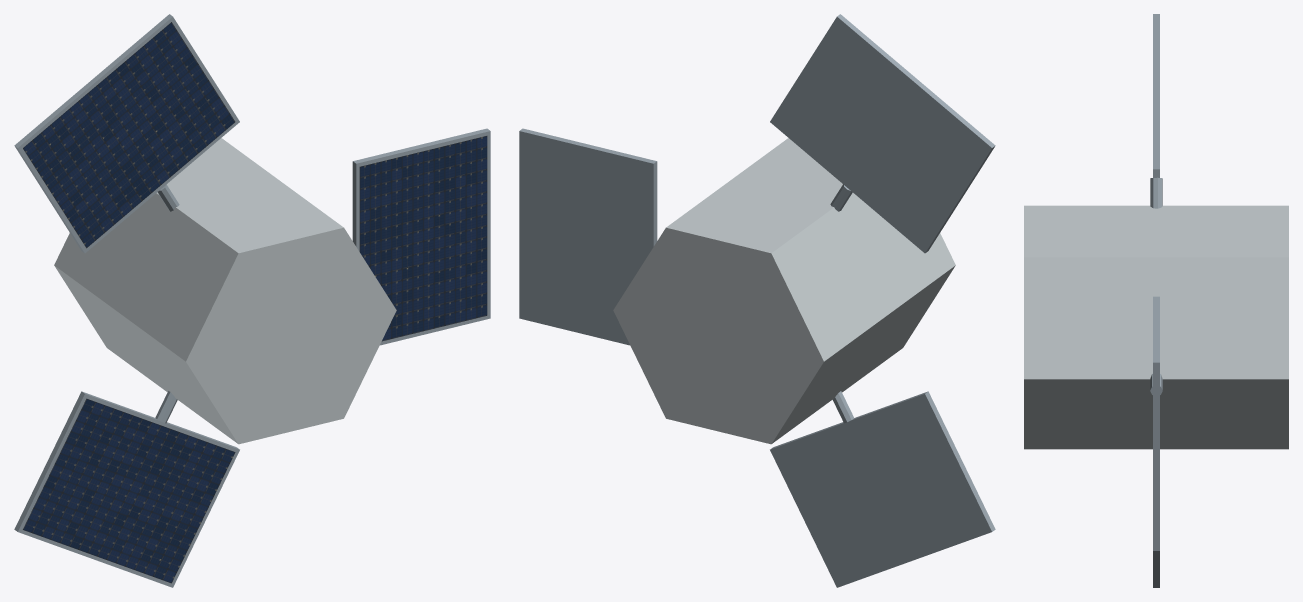
The model's file is ref-deimos-2-40013.glb.
3 views of the same model, side by side, from view 1: azimuth 30°, elevation 25°; view 2: azimuth 150°, elevation 25°; view 3: azimuth 270°, elevation 25° (orthographic).
Parts seen in each view (by area): view 1: Photovoltaic laminates (×3), Spacecraft body, Array frame (×3); view 2: Array frame (×3), Spacecraft body; view 3: Spacecraft body, Array frame (×2), Solar array drive.
Boxes of the visible parts, x1,y1,x2,y2 form: Photovoltaic laminates (×3): (23,22,487,583); Spacecraft body: (54,138,396,444); Array frame (×3): (14,14,490,587); Array frame (×3): (519,14,995,587); Spacecraft body: (613,138,955,444); Spacecraft body: (1024,205,1288,449); Array frame (×2): (1153,14,1159,550); Solar array drive: (1150,177,1162,208).
Bounding box in the file's own units: 2.69 × 3.11 × 1.3.
Materials: 3 (1 with a texture image).
